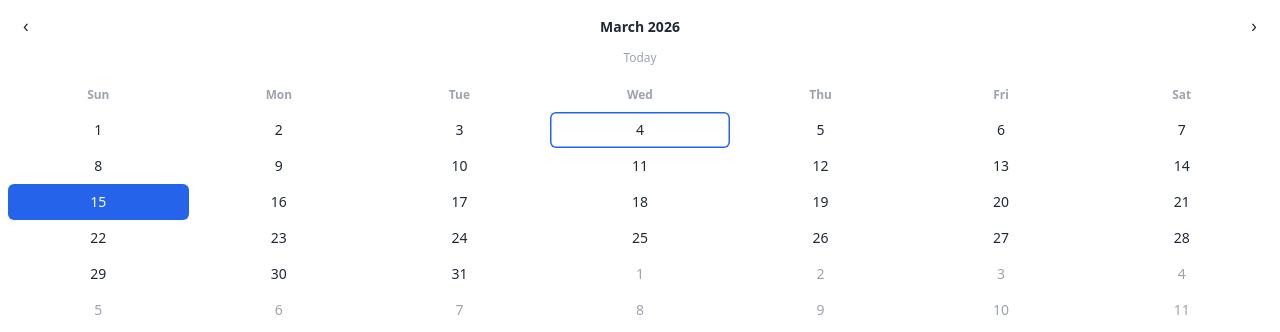
Test: CalendarWidget quick navigation › opens year picker from month picker heading
The image size is (1280, 332).
Note: Open month picker
Click the button with aria-label "choose month and year".
click(640, 27)  # box [592, 16, 688, 38]
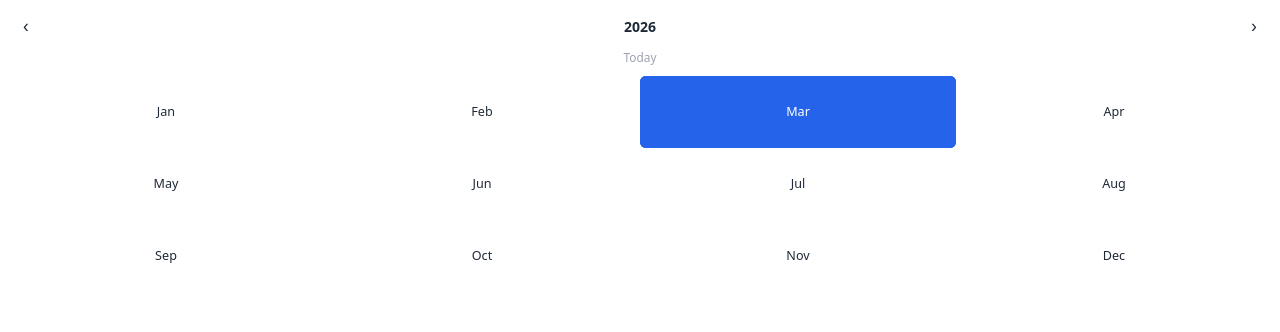
Note: Click year heading to open year picker
Click the button named "choose year".
click(640, 27)  # box [616, 16, 664, 38]
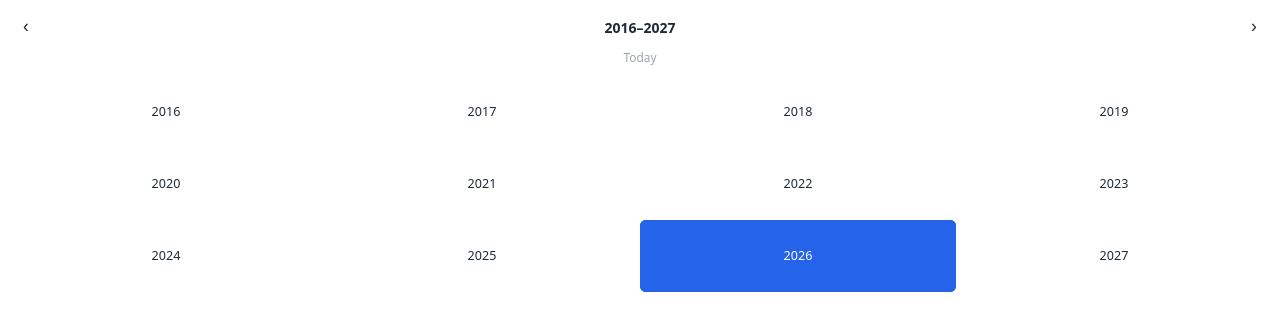
Check: the table named "year picker" is shown
